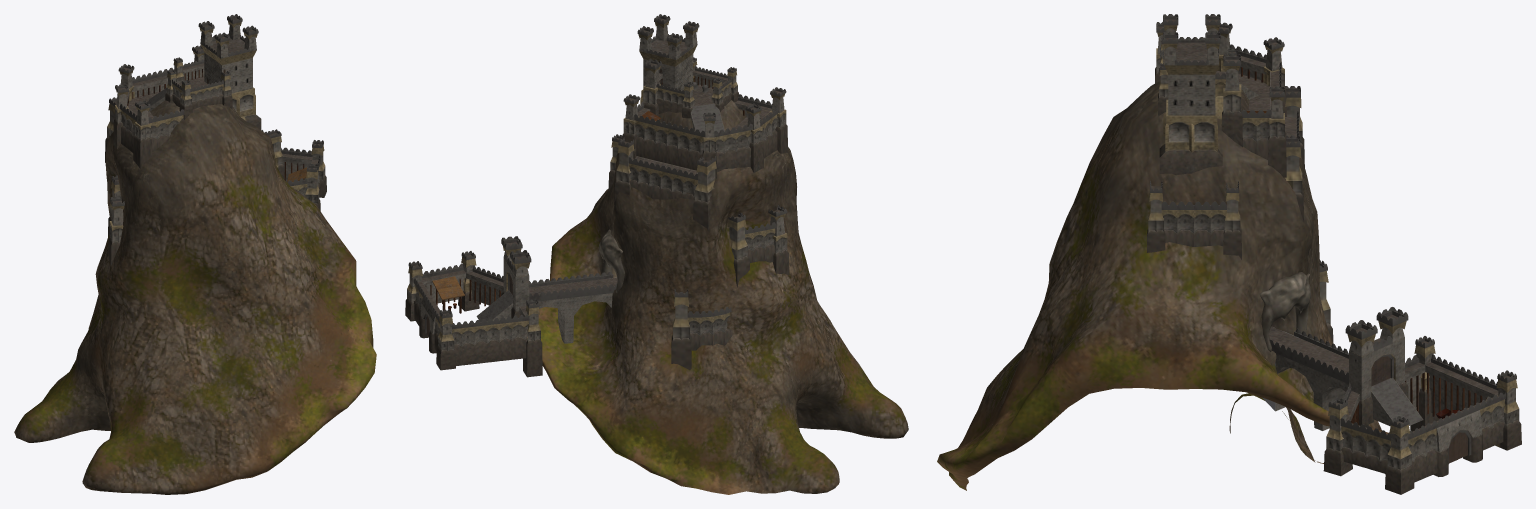
3 renders of one model, left to right at view 1: azimuth 30°, elevation 25°; view 2: azimuth 150°, elevation 25°; view 3: azimuth 270°, elevation 25°, orthographic. The views are drawn at different scales.
Visible parts, largest first — view 1: landmark; view 2: landmark; view 3: landmark.
Boxes of the visible parts, x1,y1,x2,y2 form: landmark: (14,14,376,494); landmark: (405,14,908,494); landmark: (937,14,1521,494).
Bounding box in the file's own units: 31.35 × 31.87 × 32.68.
2 materials, 2 textured.
